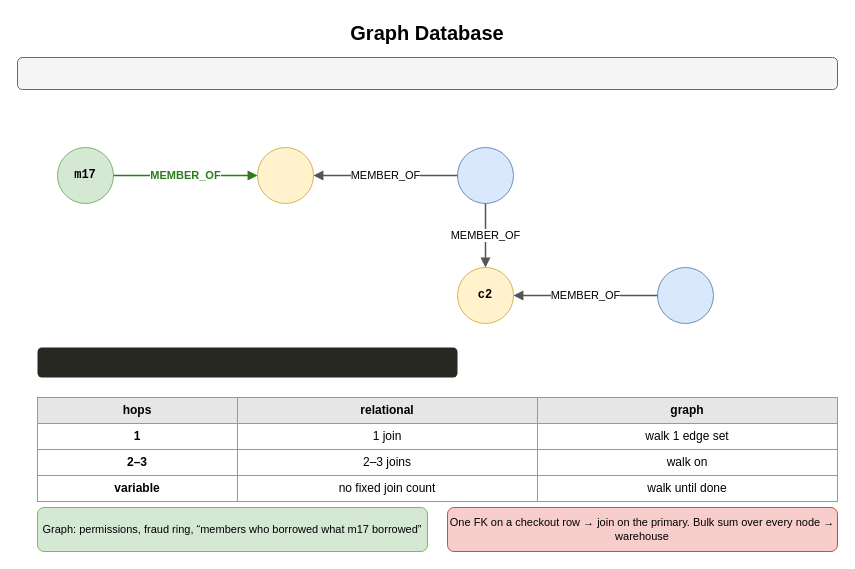
Image size: 855x569. Some labels were removed from this diagram. The shapes that lost their labels are listed below. From the top down, each one's box as (x1, y1, x2, y2) in pixels, then its label:
(16, 56, 838, 90): Nodes and edges; the query walks edges. Who may borrow this drill?
(256, 146, 314, 204): c1
(456, 146, 514, 204): m22
(656, 266, 714, 324): m04
(37, 347, 457, 377): (m17)-[:MEMBER_OF]->(c1)<-[:MEMBER_OF]-(m22)
